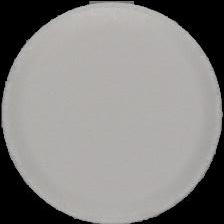68382-023: (0, 0, 224, 224)
